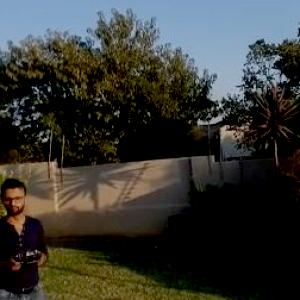follow: (1, 173, 55, 298)
